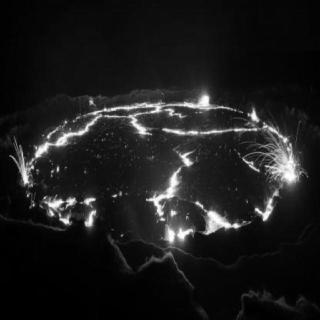Fire: (9, 65, 309, 257)
